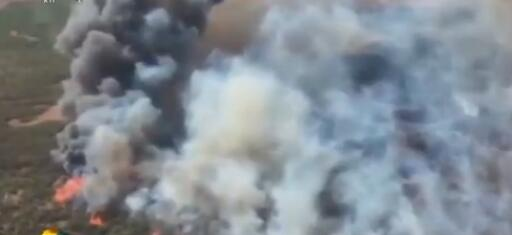yanwu: (48, 1, 512, 224)
